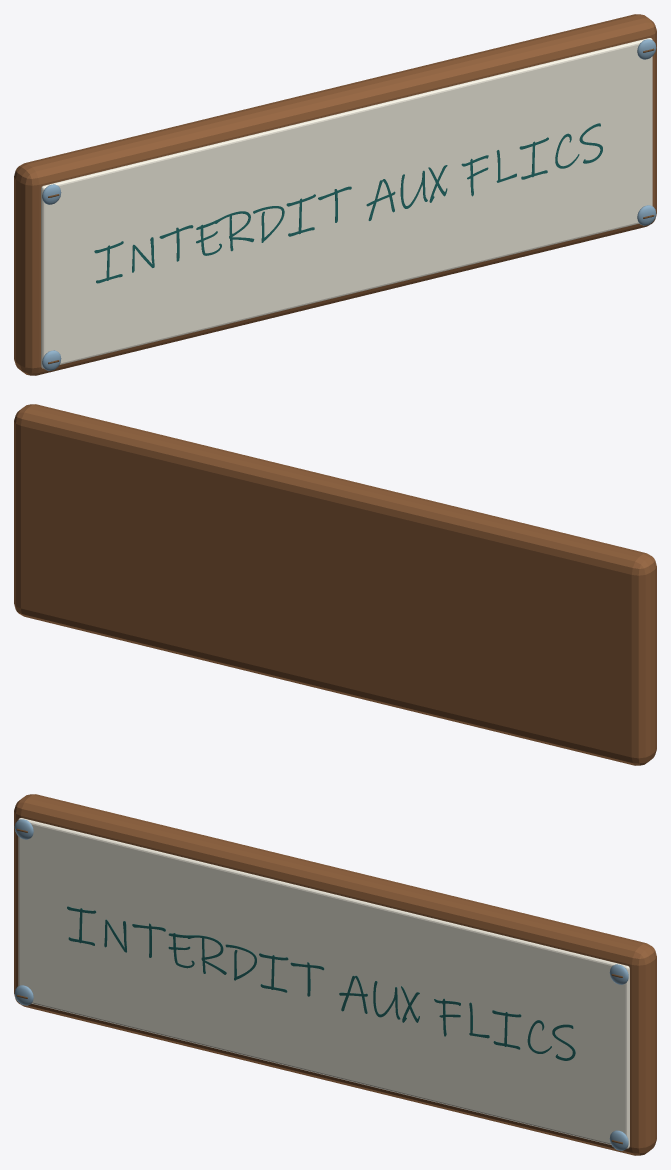
The model's file is warning_poster.glb.
The picture shows the model from 3 angles, top to bottom: view 1: azimuth 30°, elevation 25°; view 2: azimuth 150°, elevation 25°; view 3: azimuth 330°, elevation 25°; orthographic projection.
Parts seen in each view (by area): view 1: Sign_cream_face, Sign_timber, Flat_sign; view 2: Sign_timber; view 3: Sign_cream_face, Sign_timber, Flat_sign.
Part boxes in pixels (x1=…): Sign_cream_face: x1=41, y1=38, x2=652, y2=368; Sign_timber: x1=14, y1=14, x2=656, y2=375; Flat_sign: x1=94, y1=123, x2=602, y2=283; Sign_timber: x1=14, y1=404, x2=656, y2=765; Sign_cream_face: x1=18, y1=818, x2=629, y2=1148; Sign_timber: x1=14, y1=794, x2=656, y2=1155; Flat_sign: x1=67, y1=906, x2=575, y2=1060.
Bounding box in the file's own units: 0.8 × 0.25 × 0.0554.
